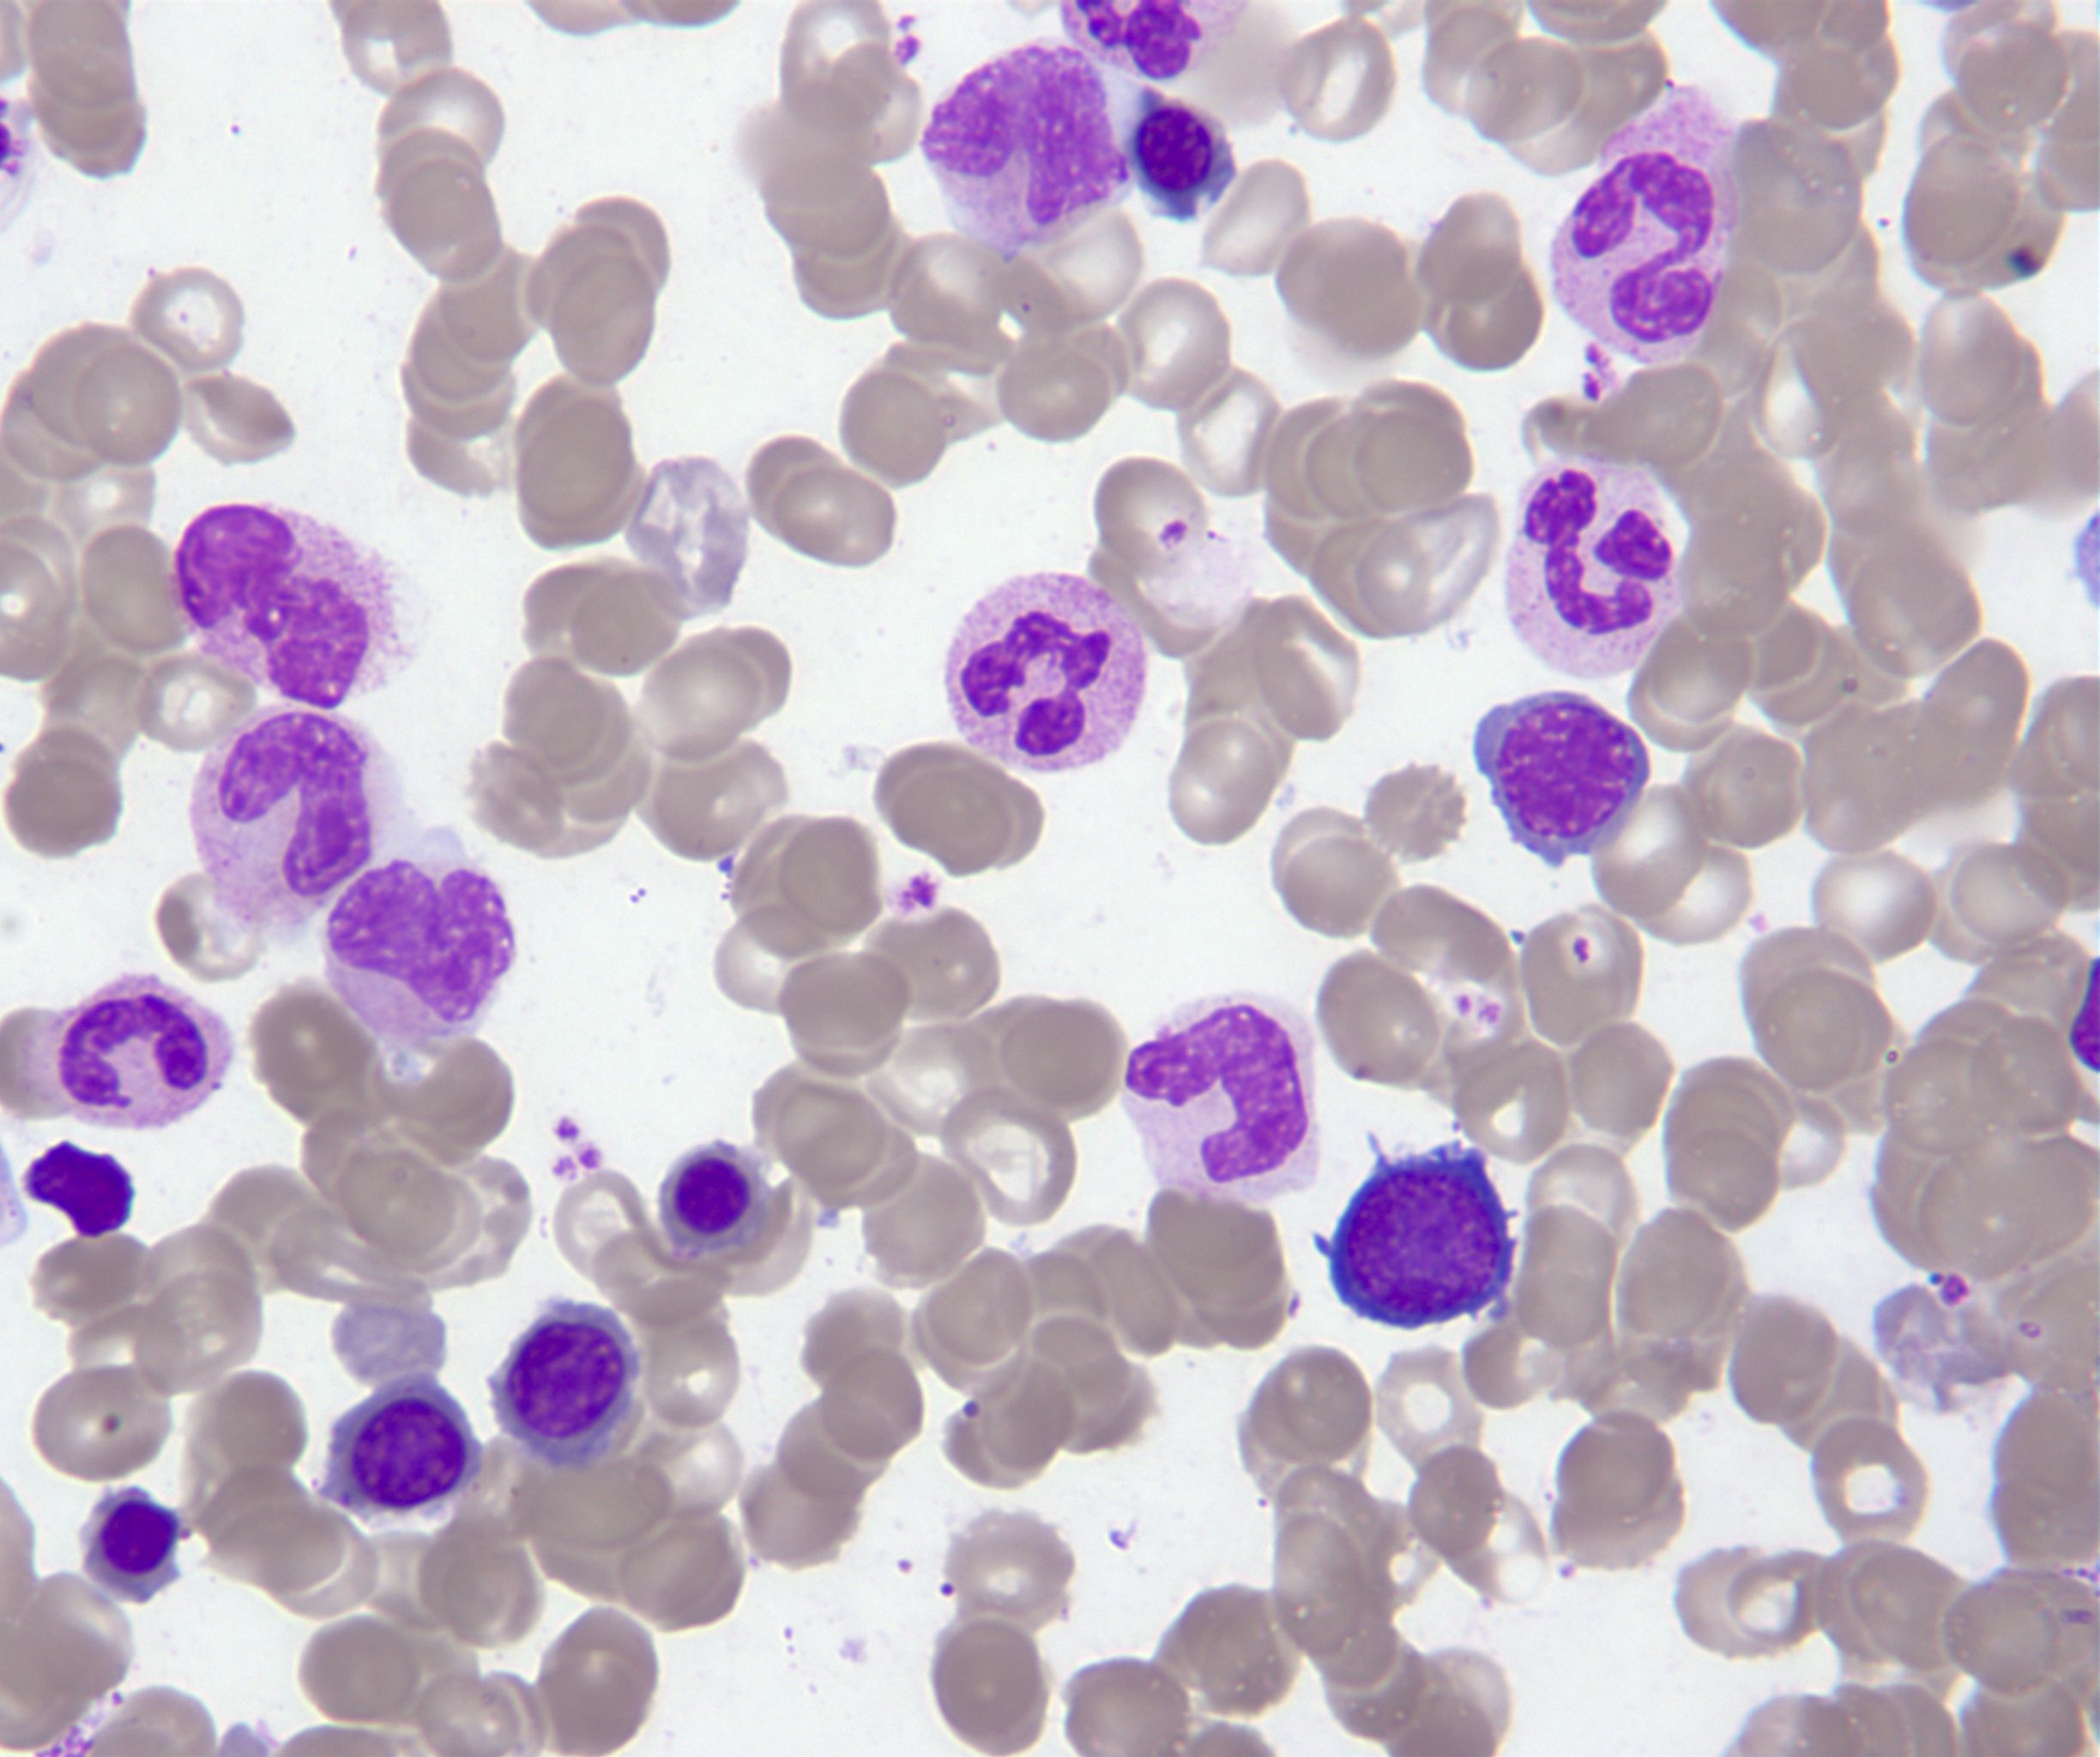23: (1312, 1134, 1528, 1335)
24: (1467, 680, 1655, 879), (316, 1364, 488, 1532), (492, 1291, 647, 1474), (1113, 82, 1251, 227), (652, 1136, 776, 1267), (75, 1483, 194, 1609)
32: (14, 1134, 138, 1246)
4: (910, 28, 1137, 265), (310, 822, 523, 1063)
5: (1542, 82, 1735, 373), (181, 705, 412, 947), (1115, 988, 1327, 1218), (938, 564, 1158, 780), (1497, 455, 1694, 684), (38, 968, 239, 1138)
x: (167, 492, 405, 714)
